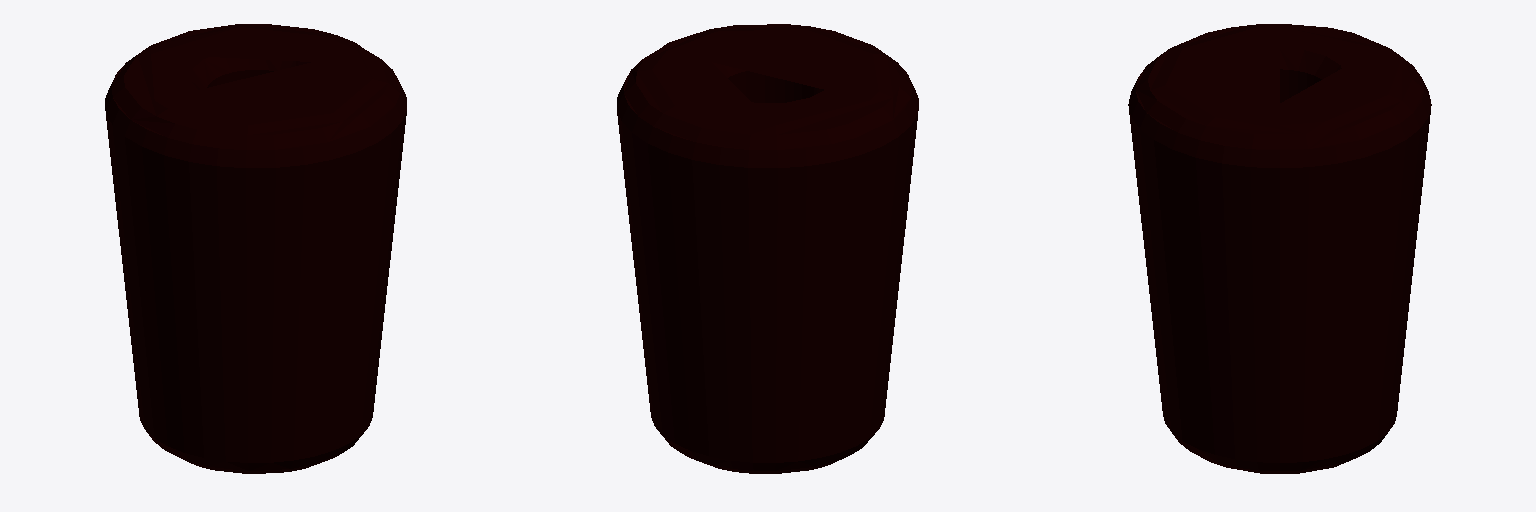
Rendered from Stopper.obj.
3 renders of one model, left to right at view 1: azimuth 30°, elevation 25°; view 2: azimuth 150°, elevation 25°; view 3: azimuth 270°, elevation 25°, orthographic.
Parts seen in each view (by area): view 1: Stopper_Cylinder.009; view 2: Stopper_Cylinder.009; view 3: Stopper_Cylinder.009.
Boxes of the visible parts, box(x1,y1,x2,y2) form: Stopper_Cylinder.009: box(105, 24, 406, 473); Stopper_Cylinder.009: box(617, 24, 918, 473); Stopper_Cylinder.009: box(1128, 24, 1431, 473).
Bounding box in the file's own units: 0.5557 × 0.7278 × 0.5557.